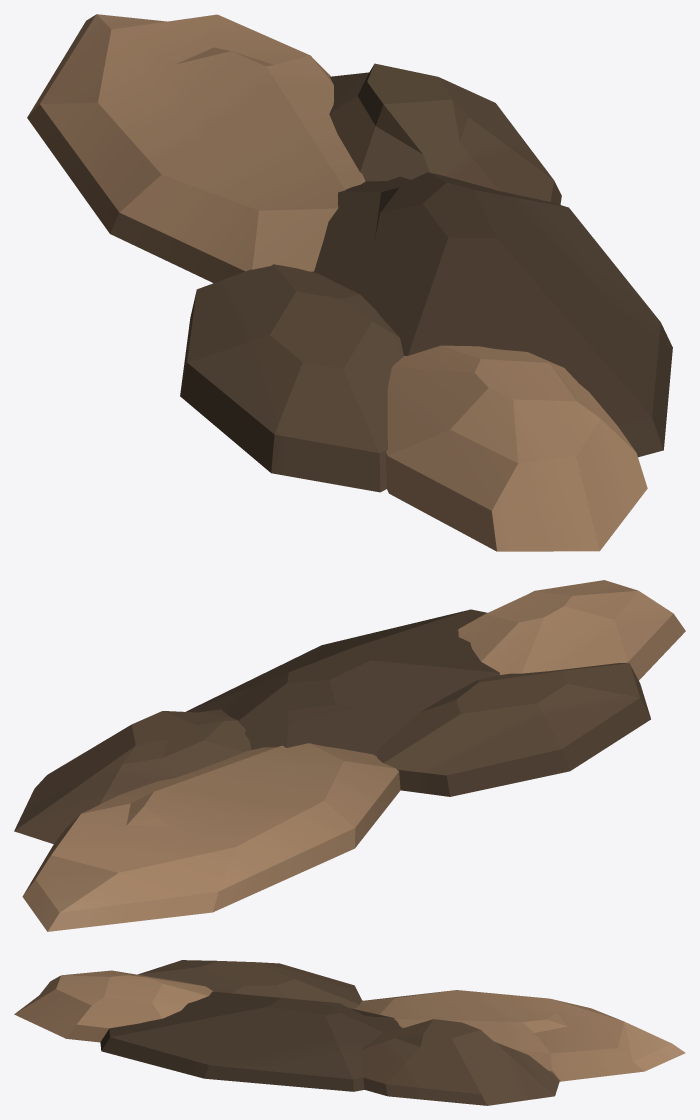
The model's file is ea_swamp_grass_hill_dead_01b_pre__3__lev1.glb.
The picture shows the model from 3 angles, top to bottom: view 1: azimuth 30°, elevation 25°; view 2: azimuth 150°, elevation 25°; view 3: azimuth 270°, elevation 25°; orthographic projection. The views are drawn at different scales.
Visible parts, largest first — view 1: ea_swamp_grass_hill_dead_01b_pre__3__lev1; view 2: ea_swamp_grass_hill_dead_01b_pre__3__lev1; view 3: ea_swamp_grass_hill_dead_01b_pre__3__lev1.
Part boxes in pixels (x1,y1,x2,y2): ea_swamp_grass_hill_dead_01b_pre__3__lev1: (27, 14, 672, 551); ea_swamp_grass_hill_dead_01b_pre__3__lev1: (14, 580, 685, 931); ea_swamp_grass_hill_dead_01b_pre__3__lev1: (14, 960, 685, 1105).
Bounding box in the file's own units: 2.3 × 0.3648 × 4.94.
Materials: 1 (1 with a texture image).
